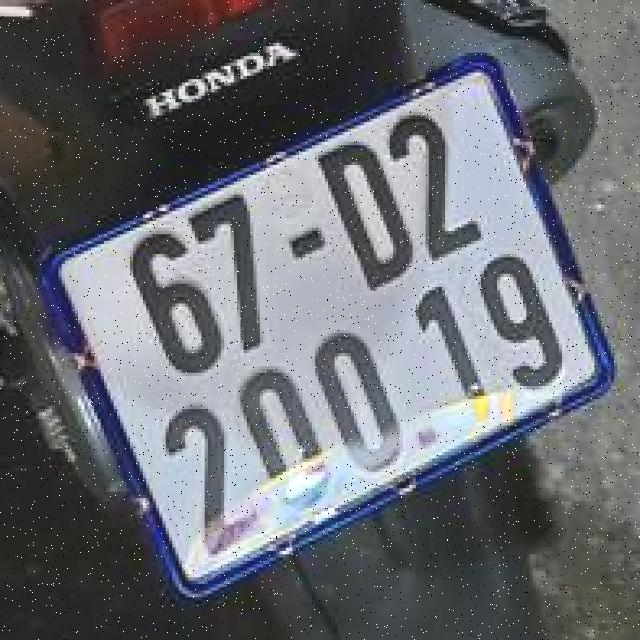0: (225, 352, 345, 524), (300, 320, 415, 484)
1: (397, 278, 501, 431)
2: (143, 384, 278, 568), (371, 102, 499, 277)
6: (110, 215, 241, 394)
7: (179, 186, 304, 360)
9: (462, 238, 582, 407)
D: (304, 128, 432, 307)
